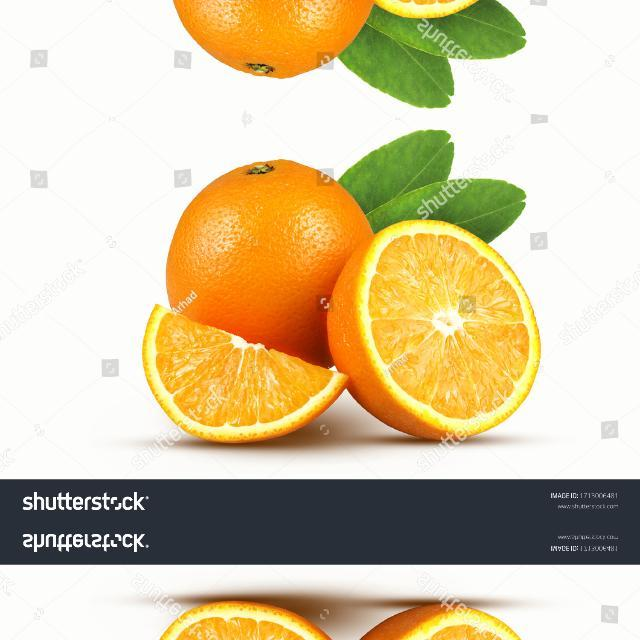Orange: (325, 217, 541, 442), (164, 157, 373, 367), (141, 302, 349, 444), (169, 0, 377, 79), (142, 599, 347, 639), (347, 602, 541, 639), (341, 0, 508, 19)
